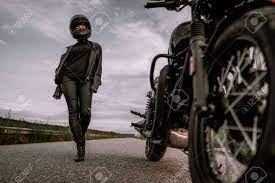helmets: (67, 13, 95, 40)
